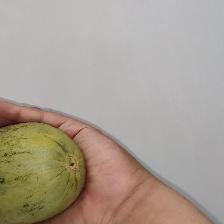gua: (17, 128, 67, 217)
